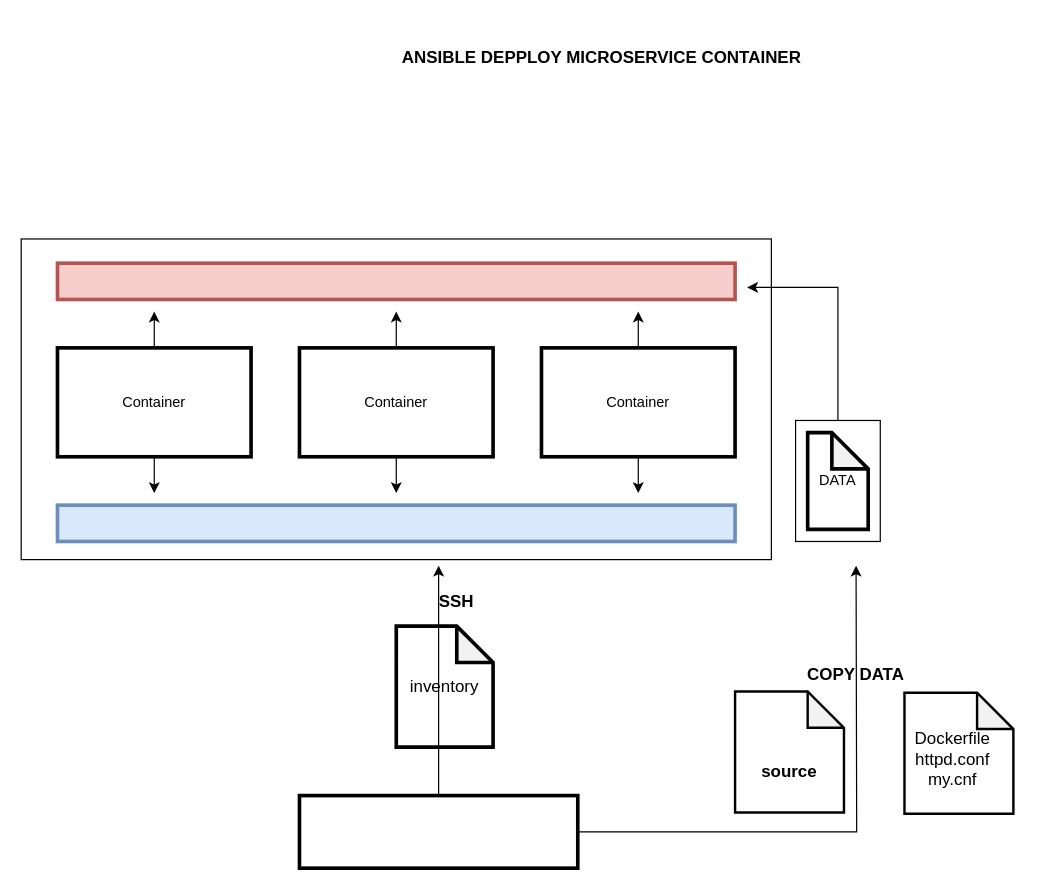
Some shapes in this 1047 by 891 pixel diagram are drawn without their labels. Here are the shapes that lost their labels. From the top down, the centre of each, then its label:
At pixel 395 281: "Docker volume".
At pixel 395 523: "Docker network".
At pixel 438 831: "Ansible controler".
